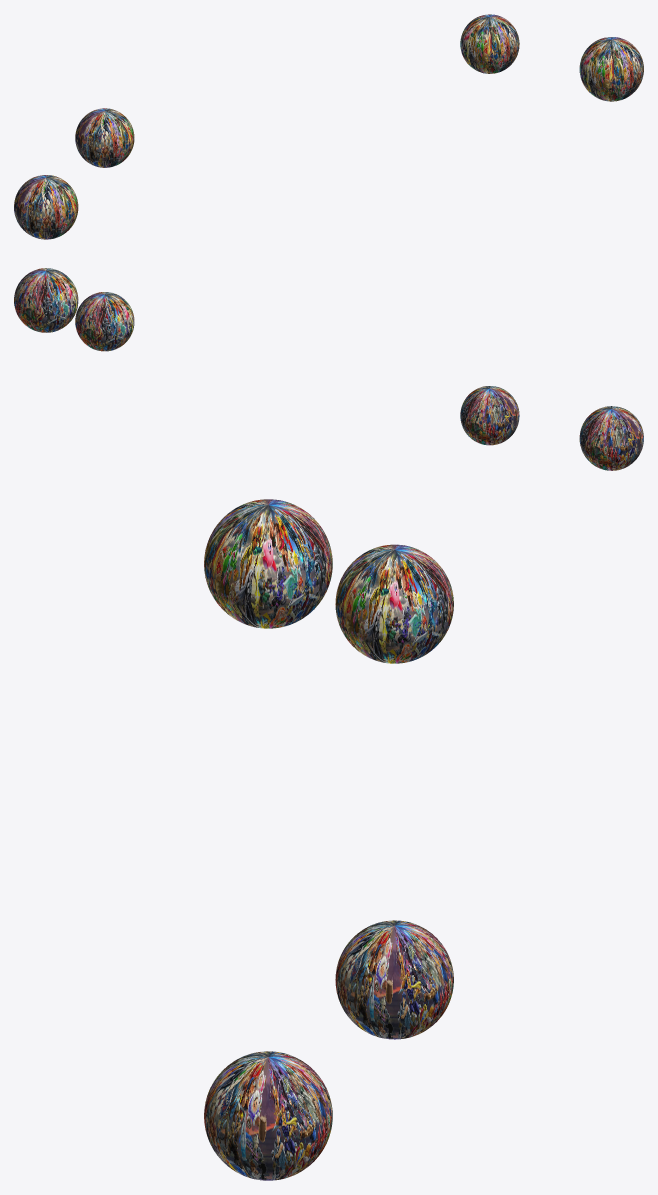
File: eye.obj
The picture shows the model from 3 angles, top to bottom: view 1: azimuth 30°, elevation 25°; view 2: azimuth 150°, elevation 25°; view 3: azimuth 270°, elevation 25°; orthographic projection. The views are drawn at different scales.
Parts seen in each view (by area): view 1: 球.003, 球.001, 球.002, 球.004; view 2: 球.003, 球.001, 球.004, 球.002; view 3: 球.001, 球.003, 球.002, 球.004.
Boxes of the visible parts, x1,y1,x2,y2 form: 球.003: [579, 37, 643, 101]; 球.001: [14, 175, 78, 239]; 球.002: [75, 108, 134, 167]; 球.004: [460, 14, 519, 73]; 球.003: [14, 268, 78, 332]; 球.001: [579, 406, 643, 470]; 球.004: [75, 292, 134, 351]; 球.002: [460, 386, 519, 445]; 球.001: [204, 499, 332, 628]; 球.003: [204, 1051, 332, 1180]; 球.002: [335, 544, 453, 663]; 球.004: [335, 920, 453, 1039].
Bounding box in the file's own units: 1.84 × 0.2275 × 0.3198.
Materials: 1 (1 with a texture image).
